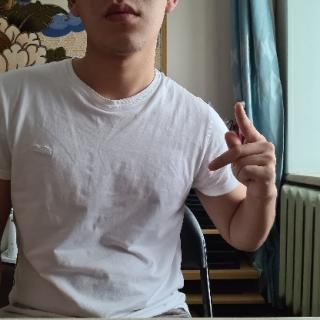DHAA: (207, 97, 282, 201)
